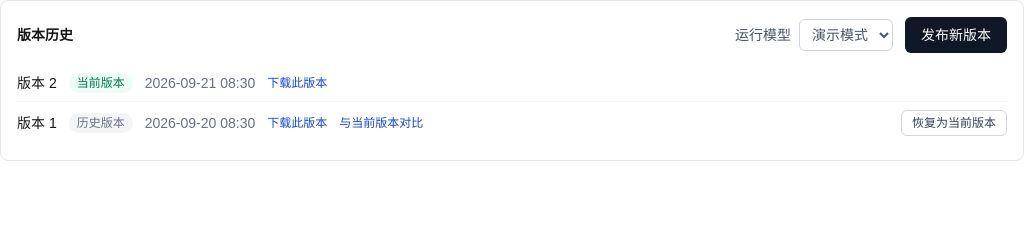
Scenario: VersionPanel › 历史版本恢复失败时保留错误提示
This screenshot has width=1024, height=236.
What coordinates should you click on to do the following:
click the button "恢复为当前版本"
I would click on:
 (954, 123)
Its box is left=901, top=110, right=1007, bottom=136.
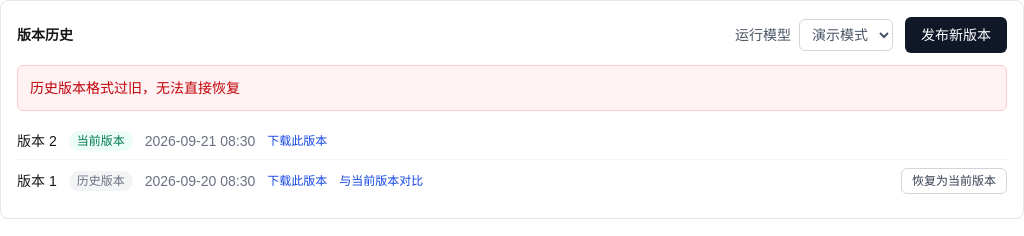
Result: the message shows "历史版本格式过旧" at left=30, top=80, right=240, bottom=96
